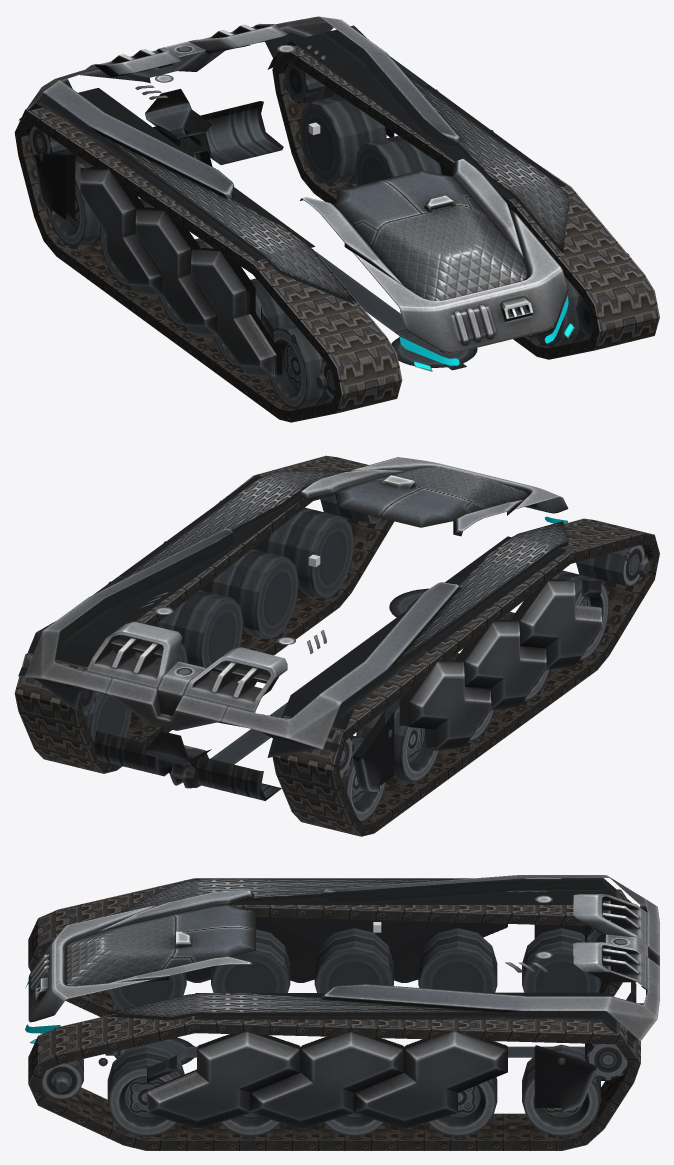
File: Hornet_Standart.fbx
3 renders of one model, top to bottom at view 1: azimuth 30°, elevation 25°; view 2: azimuth 150°, elevation 25°; view 3: azimuth 270°, elevation 25°, orthographic. The views are drawn at different scales.
Parts seen in each view (by area): view 1: Hull, rTrack, lTrack, lwheel_5, rwheel_1, lwheel_4, rwheel_5, lwheel_b, rwheel_2, lwheel_1, rwheel_b; view 2: Hull, rTrack, lTrack, lwheel_2, lwheel_1, lwheel_3, rwheel_4, rwheel_f, lwheel_5, rwheel_5, rwheel_1, lwheel_f; view 3: Hull, lTrack, rTrack, rwheel_4, lwheel_1, rwheel_3, rwheel_5, rwheel_2, lwheel_5, lwheel_4, rwheel_1, lwheel_b (+3 smaller).
Boxes of the visible parts, x1,y1,x2,y2 form: Hull: (18, 16, 629, 391); rTrack: (14, 107, 402, 422); lTrack: (272, 45, 659, 359); lwheel_5: (299, 96, 386, 184); rwheel_1: (269, 323, 331, 409); lwheel_4: (355, 135, 441, 185); rwheel_5: (46, 159, 100, 247); lwheel_b: (284, 62, 337, 103); rwheel_2: (214, 278, 293, 368); lwheel_1: (534, 277, 587, 346); rwheel_b: (29, 126, 80, 158); Hull: (18, 457, 649, 800); rTrack: (272, 518, 659, 836); lTrack: (14, 455, 394, 773); lwheel_2: (211, 549, 298, 639); lwheel_1: (267, 507, 353, 598); lwheel_3: (157, 590, 243, 677); rwheel_4: (356, 696, 439, 782); rwheel_f: (576, 544, 645, 585); lwheel_5: (83, 692, 131, 742); rwheel_5: (341, 735, 385, 821); rwheel_1: (551, 570, 609, 660); lwheel_f: (320, 495, 381, 523); Hull: (25, 875, 659, 1128); lTrack: (28, 1014, 640, 1150); rTrack: (28, 878, 627, 1017); rwheel_4: (418, 928, 497, 992); lwheel_1: (107, 1044, 184, 1137); rwheel_3: (314, 928, 393, 992); rwheel_5: (522, 928, 600, 992); rwheel_2: (211, 929, 290, 992); lwheel_5: (522, 1044, 600, 1137); lwheel_4: (427, 1077, 497, 1137); rwheel_1: (109, 972, 186, 1009); lwheel_b: (585, 1043, 628, 1080).
Bounding box in the file's own units: 3.65 × 1.65 × 6.26.
